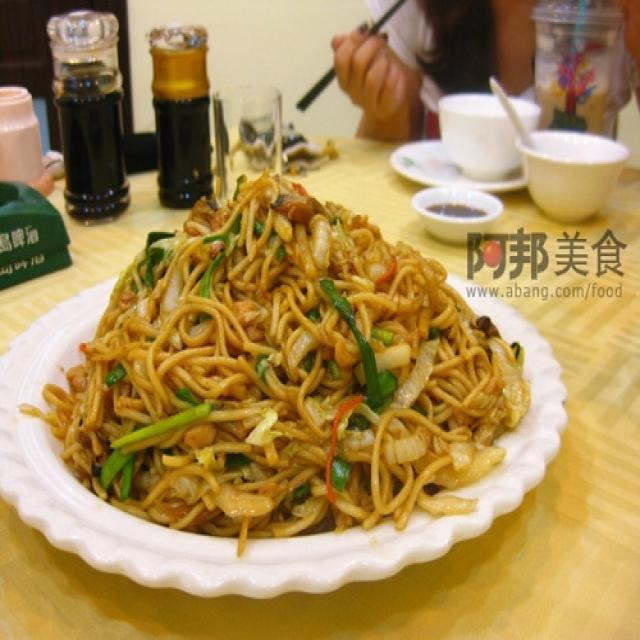面条主食: (15, 152, 557, 578)
